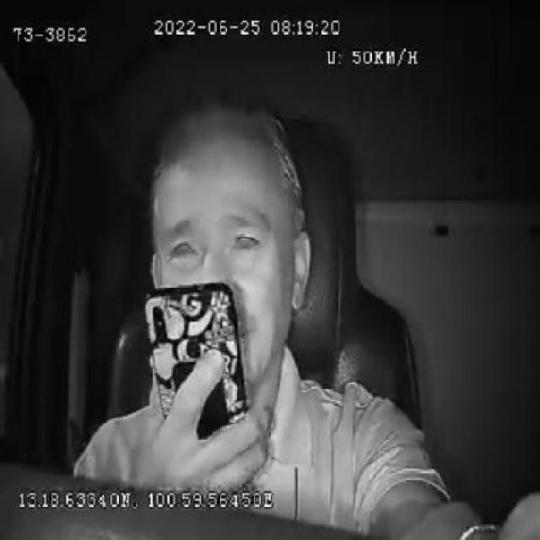phone: (142, 280, 254, 472)
